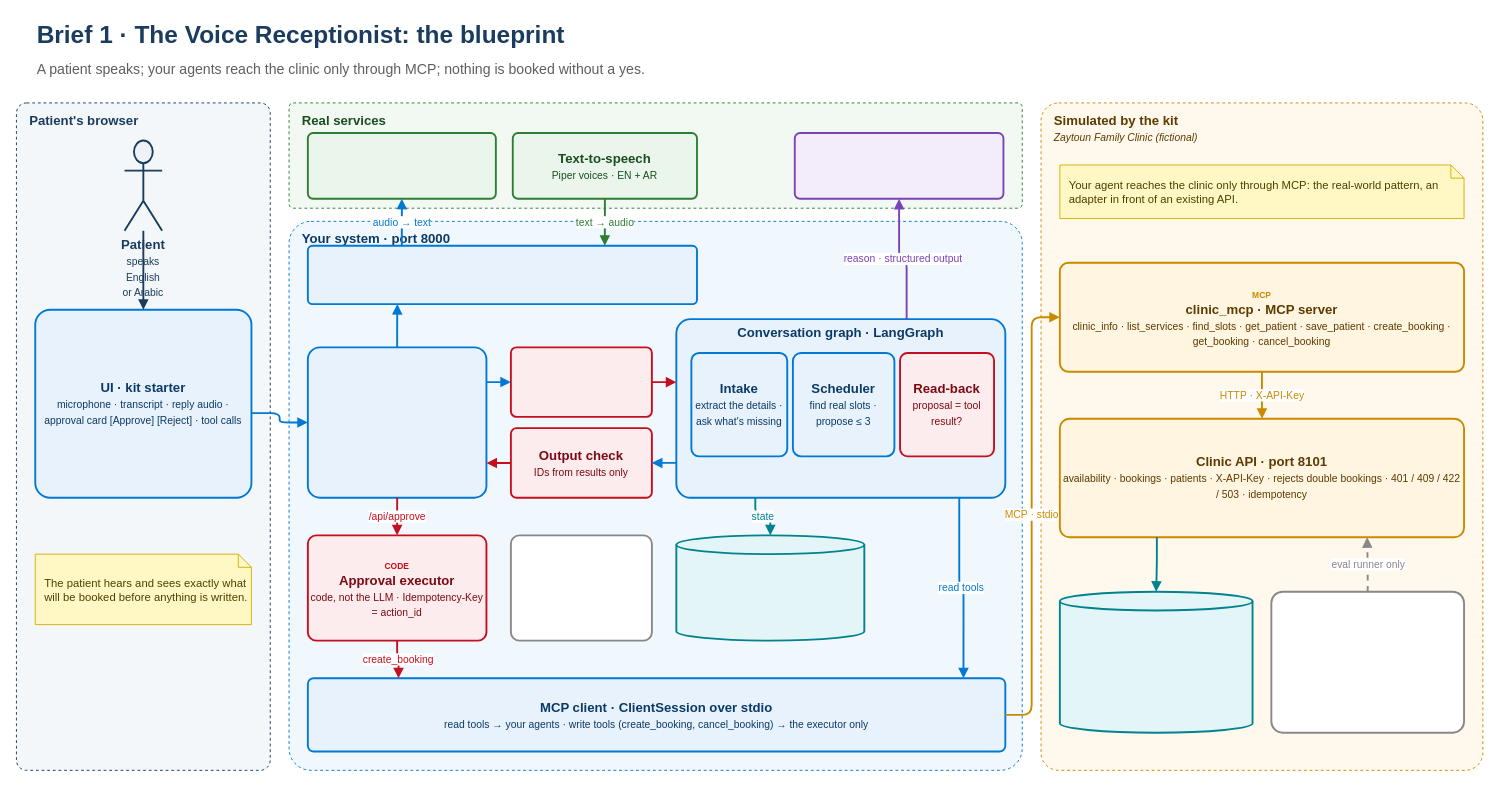
Image size: 1499x787. Some labels were removed from this diagram. The shapes that lost their labels are listed below. From the top down, each one's centre as x and y in pixels, then its label:
At pixel 401 165: "Speech-to-text OpenRouter audio model".
At pixel 898 165: "LLM · OpenRouter openai/gpt-4.1-mini".
At pixel 501 274: "Voice layer transcribe() in · speak() out".
At pixel 580 381: "Input guard injection · out of scope".
At pixel 396 422: "API contract /api/voice · /api/chat · /api/approve · /health".
At pixel 580 587: "Caps & logs step cap · timeouts · tool_calls".
At pixel 770 587: "State + memory session state · the patient's profile".
At pixel 1155 661: "Seed data 6 services · 5 providers · 4 patients · engineered conflicts".
At pixel 1367 661: "Admin · tests only reset · faults · log · bookings".
